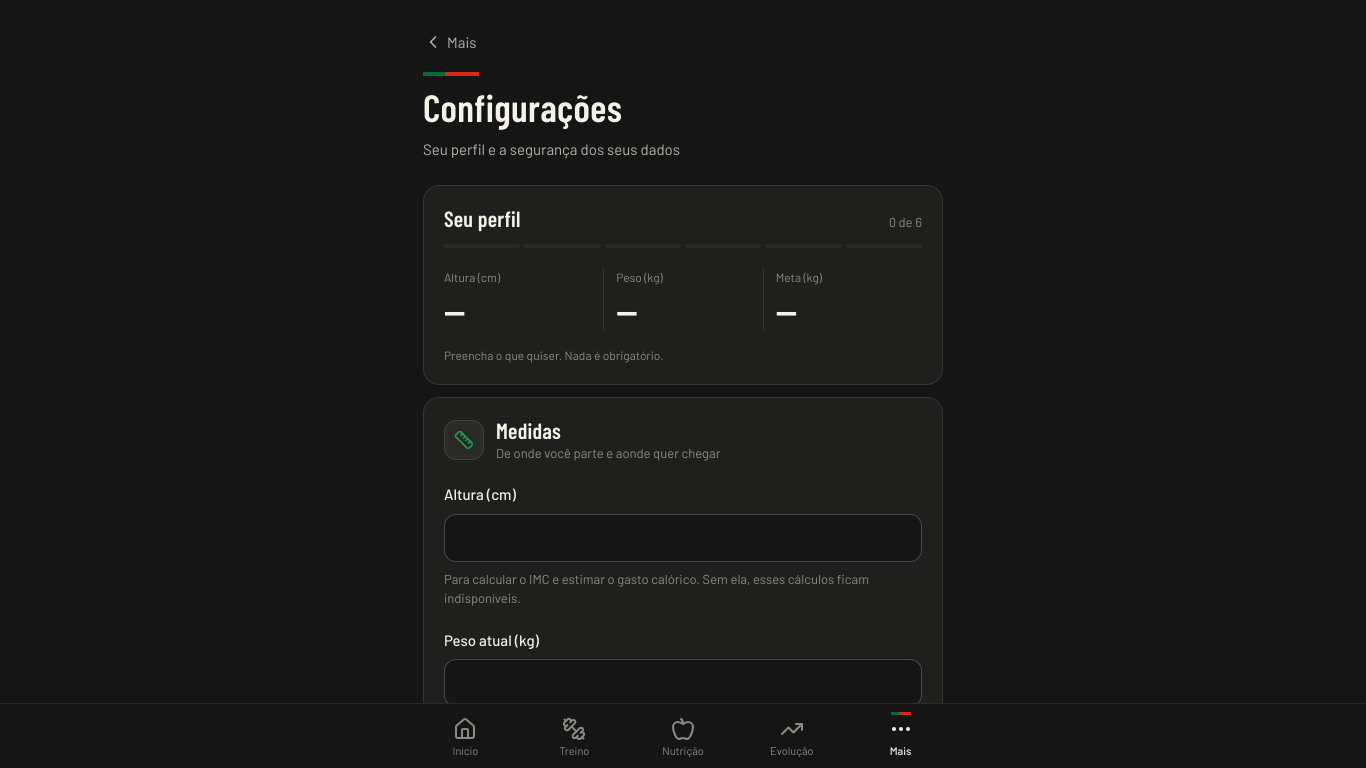
Test: Configurações › descarta as alterações não salvas
Type "170" into the field labelled "Altura (cm)" at (683,538), box [444,514,922,562]
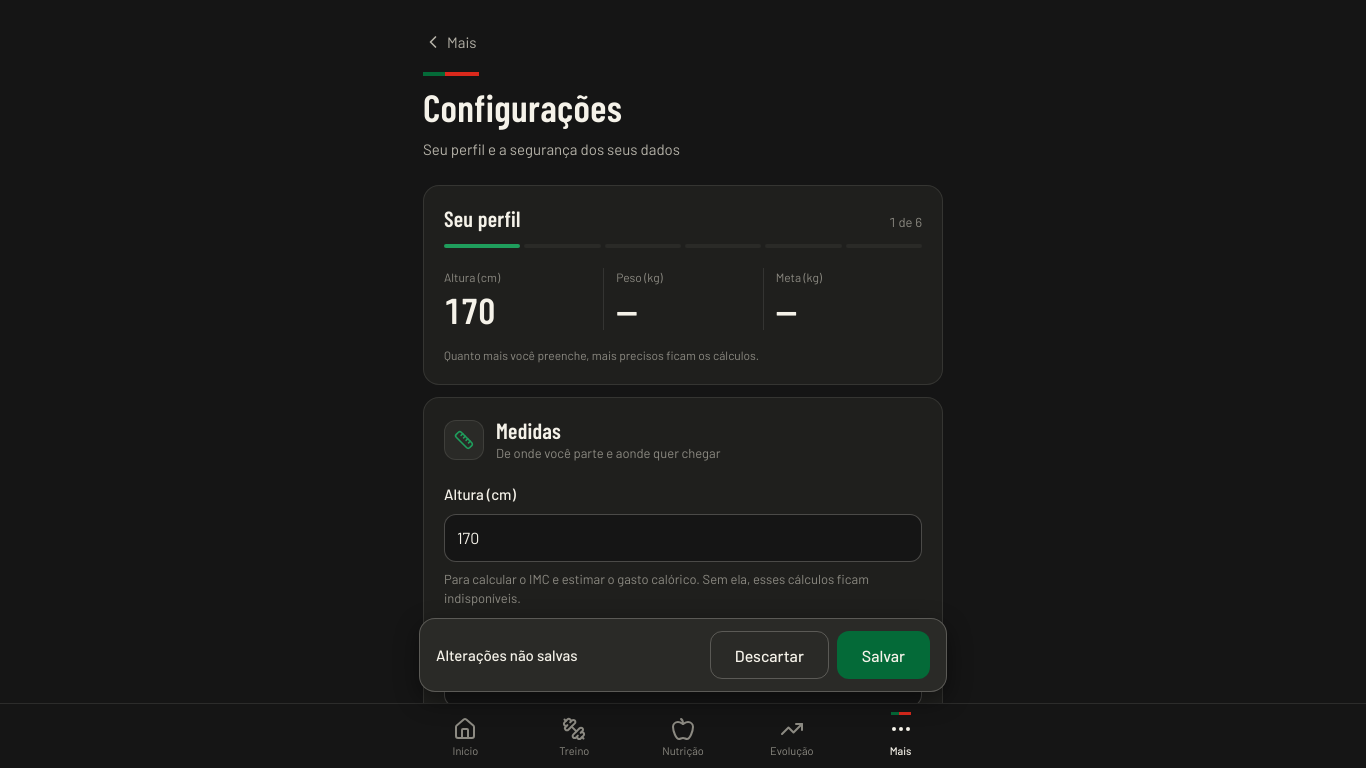
Now the text "Alterações não salvas" is shown, box [436,644,578,666]
Click the button "Descartar" at (769,655), box [710,631,829,679]
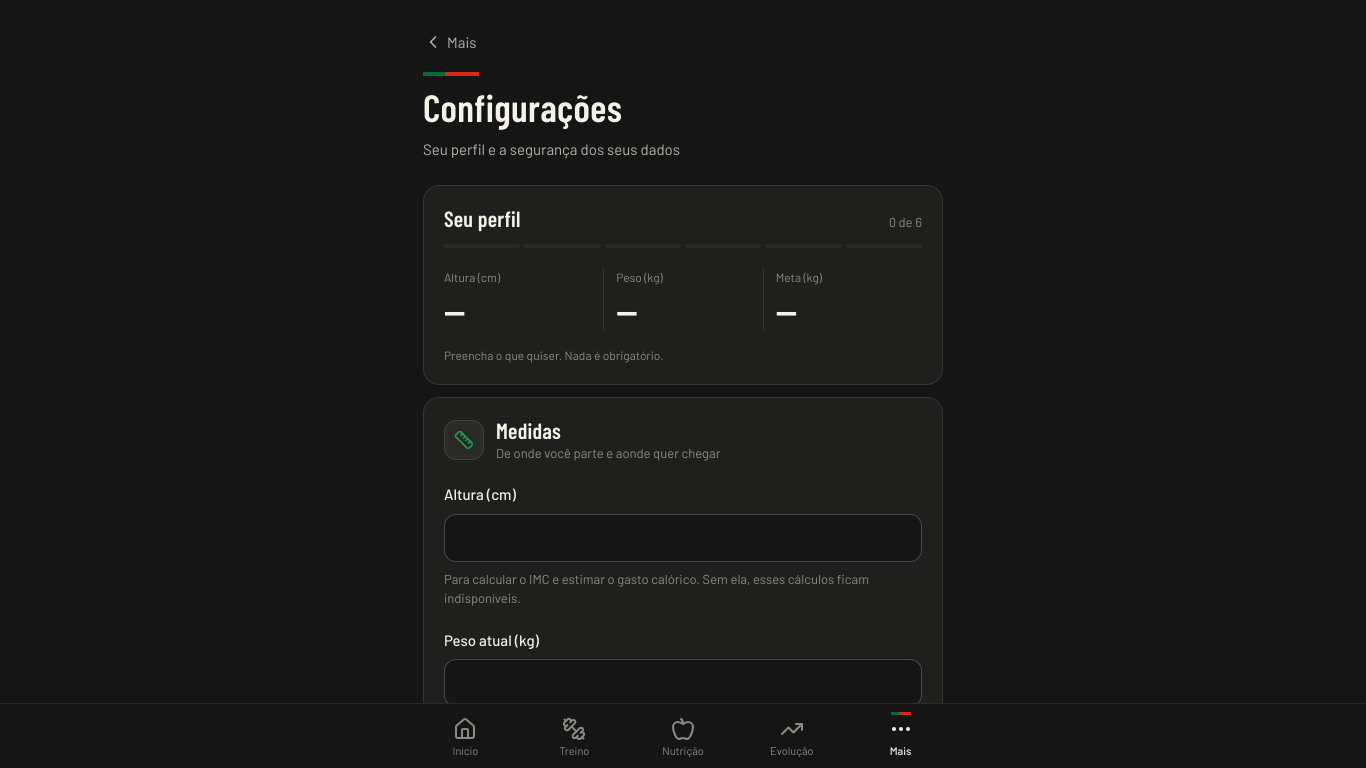
Now the field labelled "Altura (cm)" is empty, box [444,514,922,562]
Now the text "Alterações não salvas" is gone
